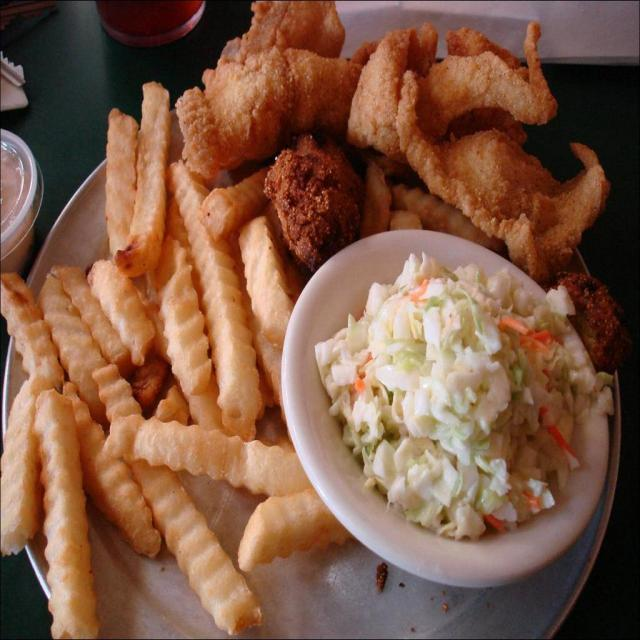French fries: (97, 361, 243, 639), (160, 151, 255, 443), (128, 410, 327, 499), (65, 373, 160, 555), (153, 231, 228, 439), (34, 381, 94, 639), (115, 77, 181, 291), (234, 209, 294, 435), (35, 283, 114, 419), (234, 493, 354, 581), (0, 371, 49, 555), (0, 266, 67, 396), (84, 250, 153, 358), (101, 98, 140, 258)
